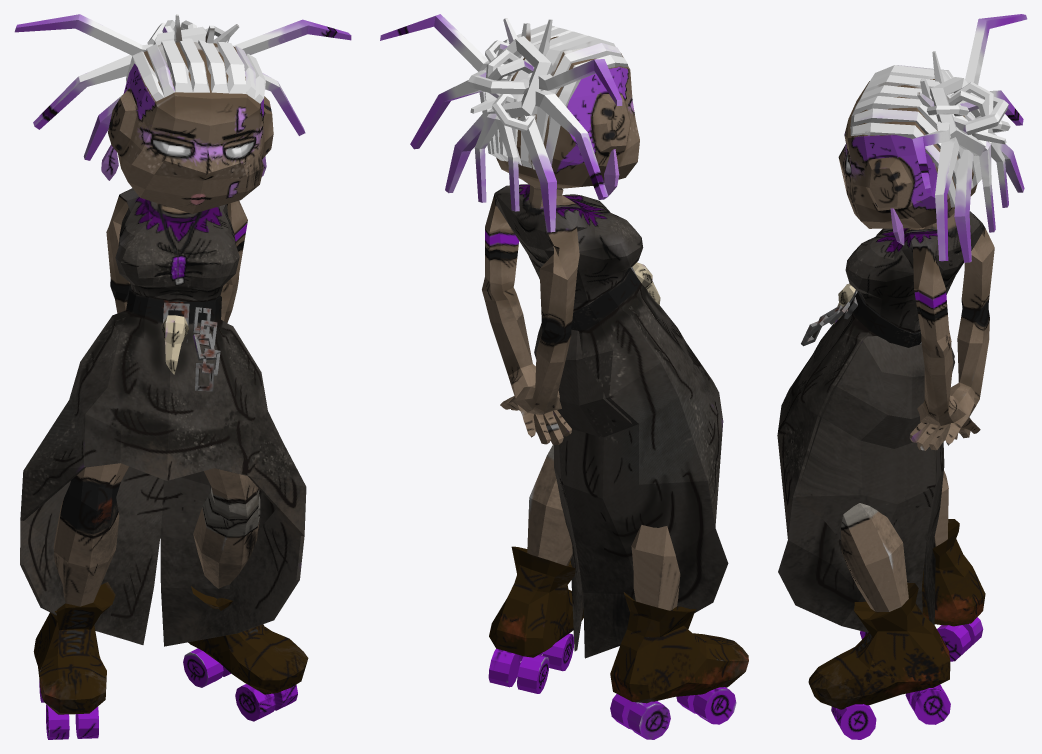
File: bruja_000003.obj
3 renders of one model, left to right at view 1: azimuth 30°, elevation 25°; view 2: azimuth 150°, elevation 25°; view 3: azimuth 270°, elevation 25°, orthographic. The views are drawn at different scales.
Parts seen in each view (by area): view 1: Bruja_Plane.001; view 2: Bruja_Plane.001; view 3: Bruja_Plane.001.
Part boxes in pixels (bbox=[...]): Bruja_Plane.001: bbox=[14, 14, 351, 739]; Bruja_Plane.001: bbox=[380, 14, 748, 739]; Bruja_Plane.001: bbox=[777, 14, 1027, 739].
Size of the model in its own units: 8.32 by 16.11 by 5.53.
